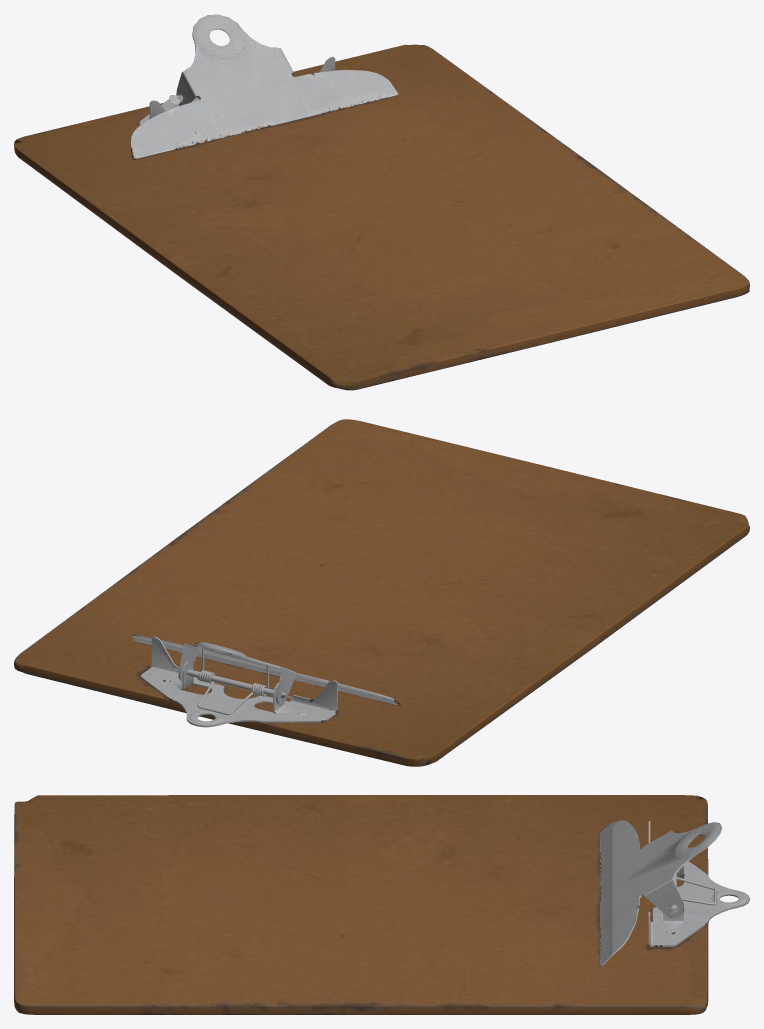
File: clipboard.glb
The picture shows the model from 3 angles, top to bottom: view 1: azimuth 30°, elevation 25°; view 2: azimuth 150°, elevation 25°; view 3: azimuth 270°, elevation 25°; orthographic projection. The views are drawn at different scales.
Visible parts, largest first — view 1: clipboard; view 2: clipboard; view 3: clipboard.
Boxes of the visible parts, x1,y1,x2,y2 form: clipboard: (14, 14, 749, 390); clipboard: (14, 419, 749, 766); clipboard: (14, 795, 749, 1014).
Bounding box in the file's own units: 0.2286 × 0.042 × 0.3366.
1 material, 1 textured.
